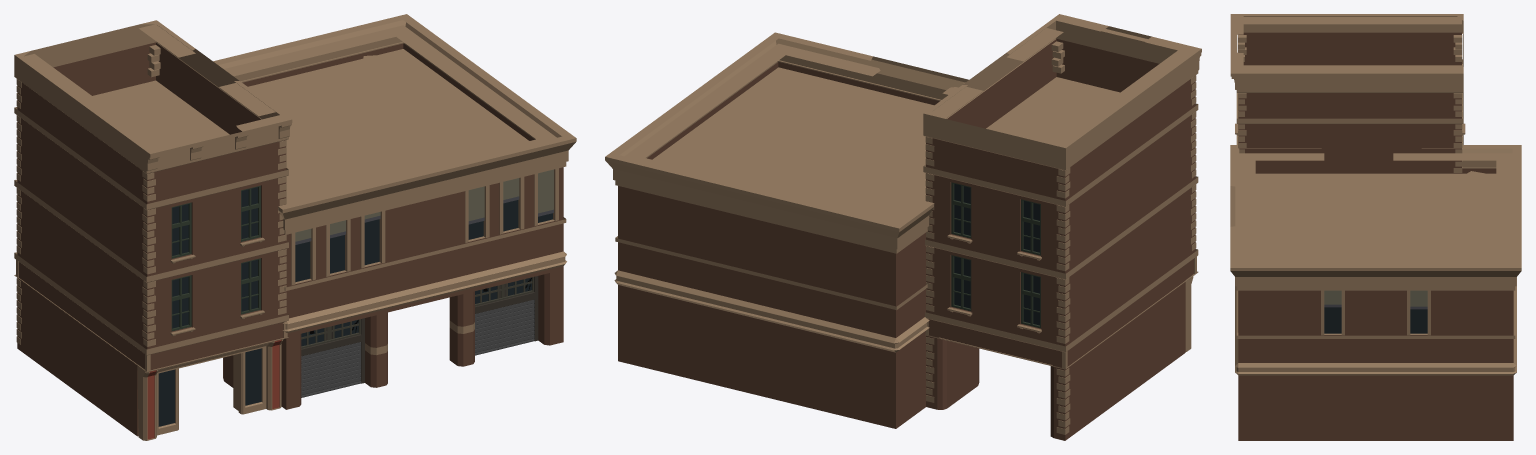
File: garageBuilding.fbx
3 renders of one model, left to right at view 1: azimuth 30°, elevation 25°; view 2: azimuth 150°, elevation 25°; view 3: azimuth 270°, elevation 25°, orthographic. The views are drawn at different scales.
Parts seen in each view (by area): view 1: Building, Blocker; view 2: Building, Blocker; view 3: Building, Blocker.
Boxes of the visible parts, bbox=[...] form: Building: bbox=[14, 20, 576, 440]; Blocker: bbox=[14, 14, 575, 209]; Building: bbox=[605, 20, 1201, 440]; Blocker: bbox=[605, 14, 1201, 228]; Building: bbox=[1230, 32, 1521, 440]; Blocker: bbox=[1230, 14, 1521, 267].
Bounding box in the file's own units: 2457 × 1616 × 1694.
